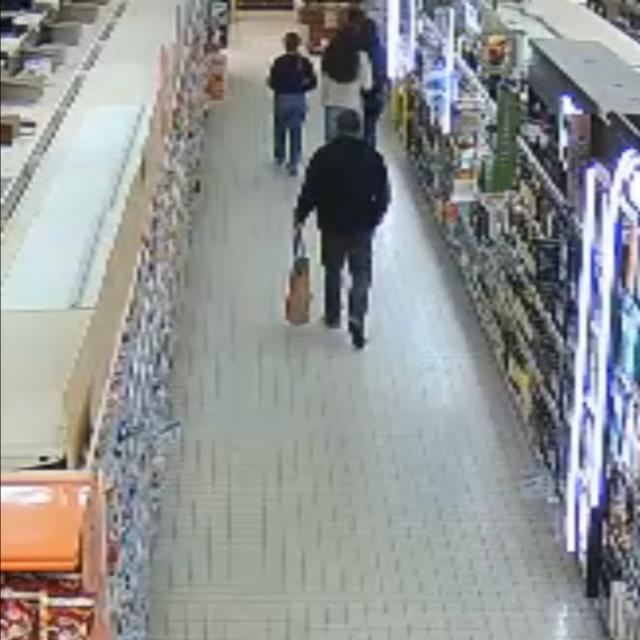bags: (286, 231, 311, 325)
hands: (294, 211, 304, 235)
person: (295, 110, 390, 348), (269, 33, 317, 174), (322, 23, 372, 141), (358, 18, 388, 146)
